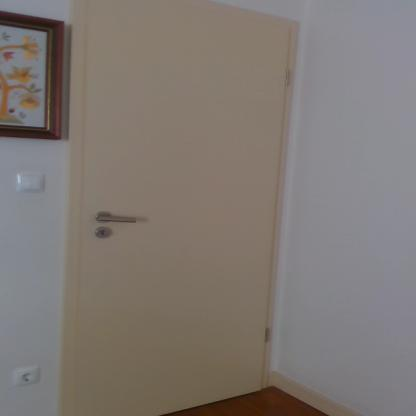door: (83, 0, 268, 400)
hinged: (281, 70, 292, 89), (264, 324, 272, 342)
lever: (97, 214, 139, 225)
